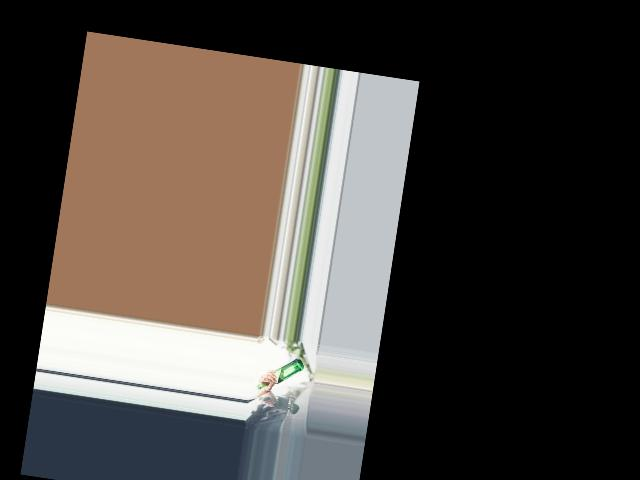beer: (257, 353, 305, 396)
